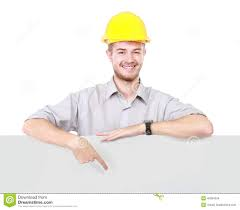Person_wearing_helmet: (98, 7, 150, 58)
